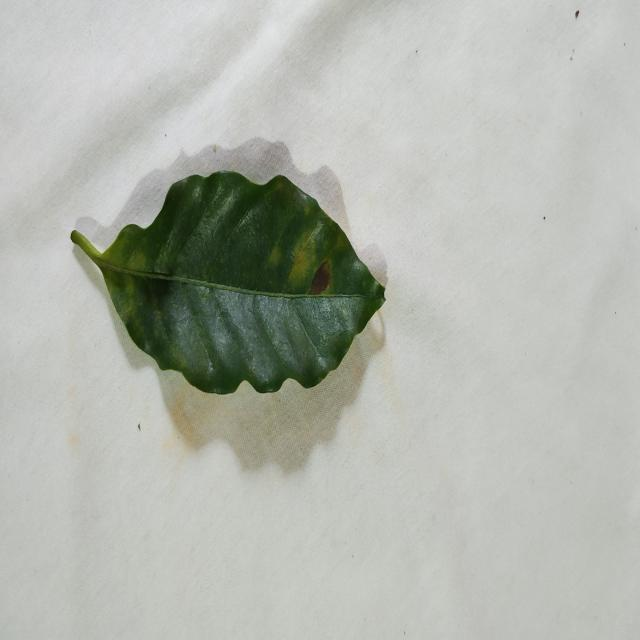Enfermedad-Roya: (69, 171, 387, 399)
